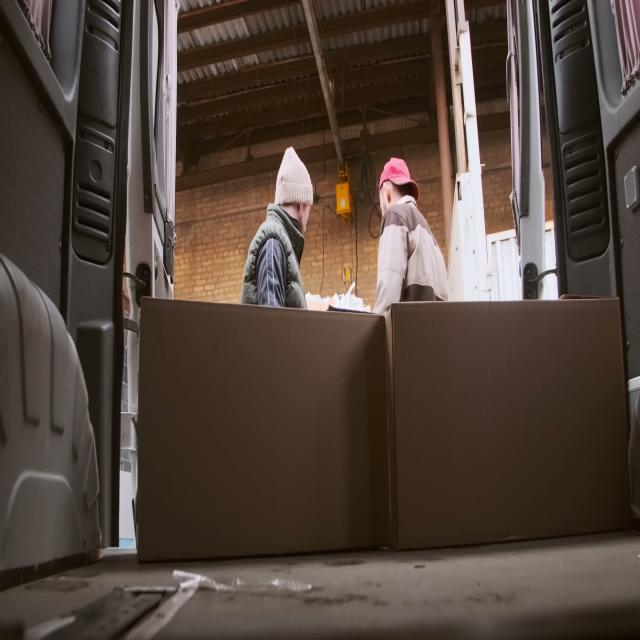counting-the-number-of-boxes: (138, 295, 389, 559), (385, 300, 635, 552)
